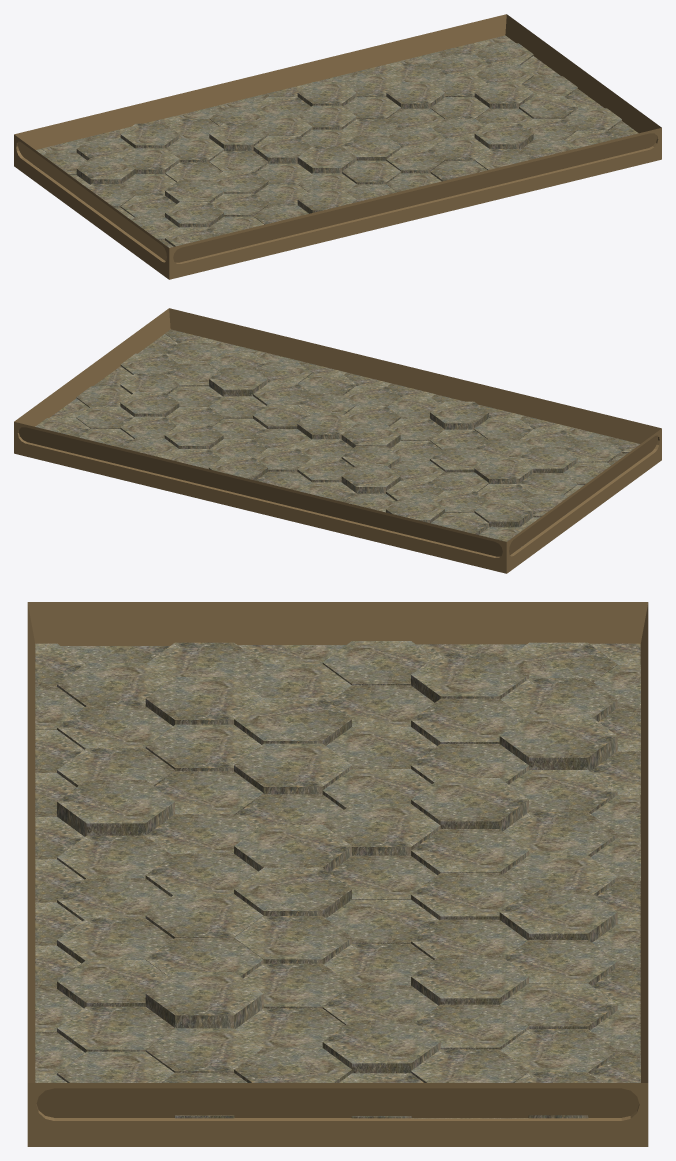
Rendered from easy5.obj.
3 renders of one model, top to bottom at view 1: azimuth 30°, elevation 25°; view 2: azimuth 150°, elevation 25°; view 3: azimuth 270°, elevation 25°, orthographic. The views are drawn at different scales.
Visible parts, largest first — view 1: hex.000_Circle.000, walls_wall1_walls_Cube.002_Cube.002_Material_wall1_walls_Cube.00; view 2: hex.000_Circle.000, walls_wall1_walls_Cube.002_Cube.002_Material_wall1_walls_Cube.00; view 3: hex.000_Circle.000, walls_wall1_walls_Cube.002_Cube.002_Material_wall1_walls_Cube.00.
Boxes of the visible parts, x1,y1,x2,y2 form: hex.000_Circle.000: (33, 35, 638, 247); walls_wall1_walls_Cube.002_Cube.002_Material_wall1_walls_Cube.00: (14, 14, 661, 279); hex.000_Circle.000: (35, 329, 639, 548); walls_wall1_walls_Cube.002_Cube.002_Material_wall1_walls_Cube.00: (14, 308, 661, 573); hex.000_Circle.000: (35, 641, 640, 1118); walls_wall1_walls_Cube.002_Cube.002_Material_wall1_walls_Cube.00: (27, 602, 648, 1146).
Size of what is drawn, in the model's own units: 26.4 by 1.63 by 14.4.
Materials: 2 (1 with a texture image).
